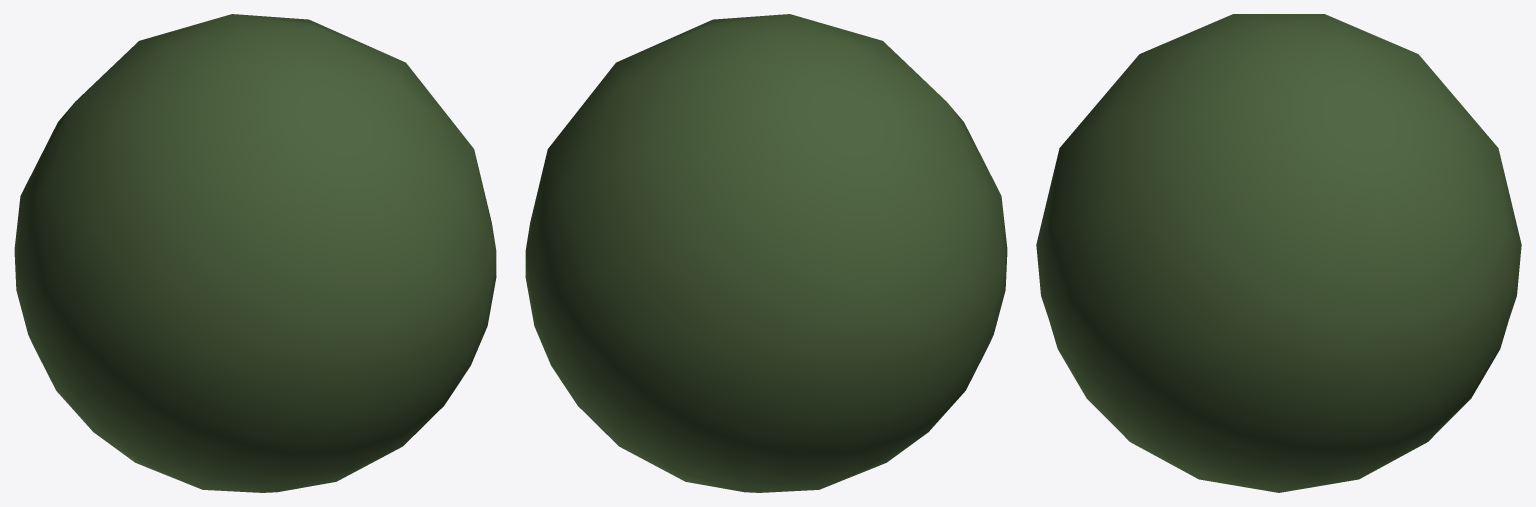
The model's file is p_mesh_trashbot_vollybomb_trashsplatter_green_pose1.fbx.
3 renders of one model, left to right at view 1: azimuth 30°, elevation 25°; view 2: azimuth 150°, elevation 25°; view 3: azimuth 270°, elevation 25°, orthographic.
Parts seen in each view (by area): view 1: volly_splatter_pose0.001; view 2: volly_splatter_pose0.001; view 3: volly_splatter_pose0.001.
Boxes of the visible parts, x1,y1,x2,y2 form: volly_splatter_pose0.001: (14, 14, 496, 492); volly_splatter_pose0.001: (525, 14, 1007, 492); volly_splatter_pose0.001: (1036, 14, 1521, 492).
Bounding box in the file's own units: 6.21 × 6.21 × 6.21.
